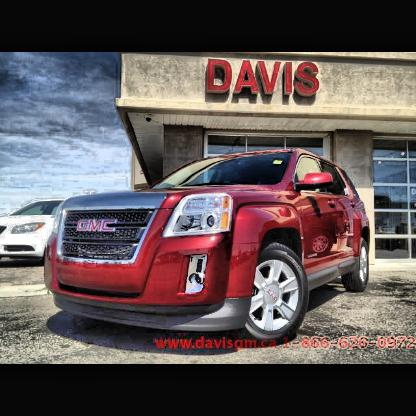GMC Terrain SUV 2012: (44, 148, 372, 347)
